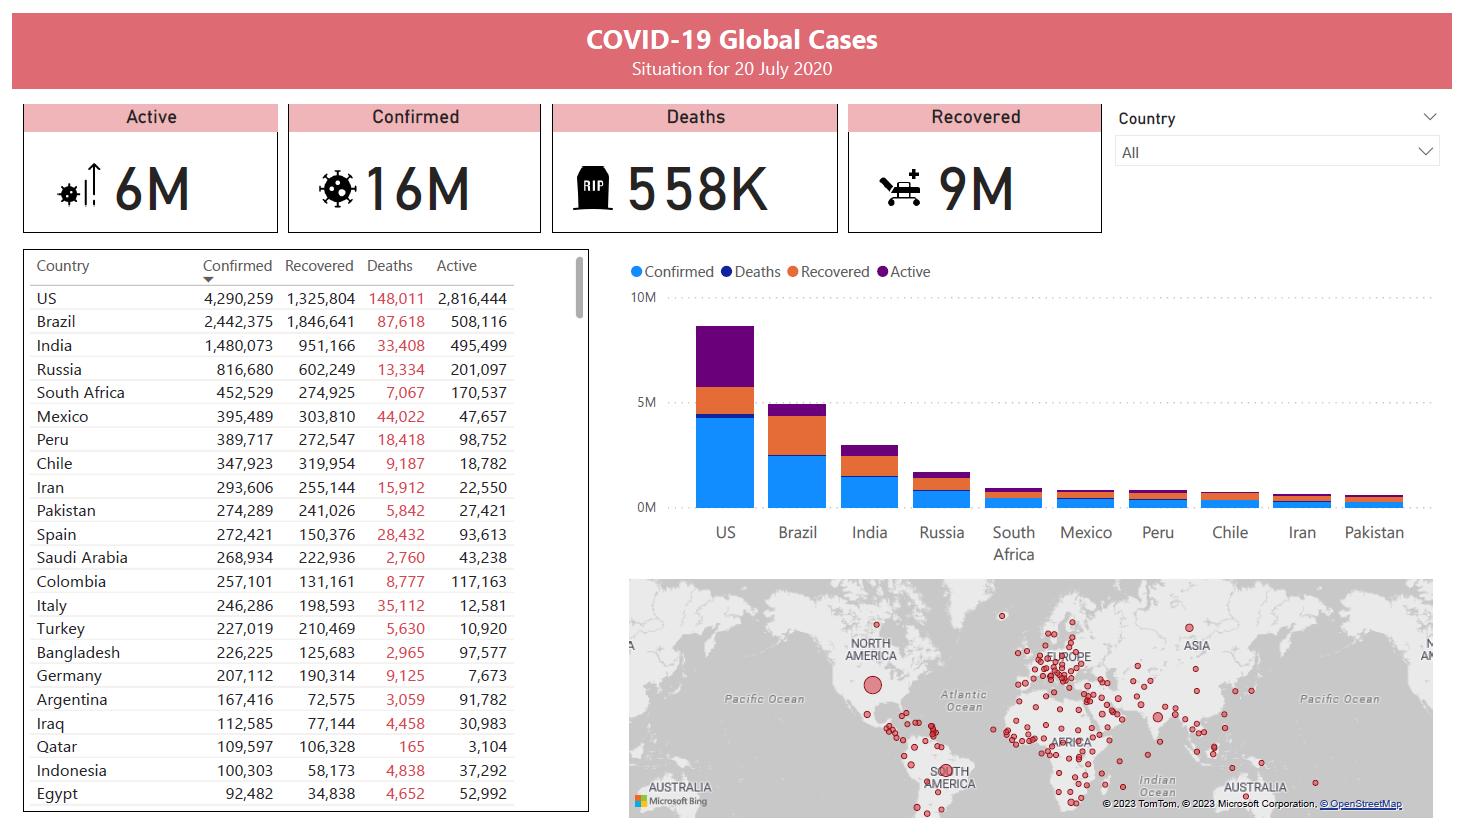

The page's visual inventory and layout, read from the dashboard file:
{"tool":"powerbi","page":{"name":"Page 1","canvas":[1280,720],"ordinal":0},"visuals":[{"type":"card","title":"Deaths","fields":{"Values":["Sum(Covid-19 Dataset (2020).Deaths)"]},"box":[480,80,253.8,115],"z":0},{"type":"card","title":"Recovered","fields":{"Values":["Sum(Covid-19 Dataset (2020).Recovered)"]},"box":[742.5,80,226.2,115],"z":1000},{"type":"card","title":"Confirmed","fields":{"Values":["Sum(Covid-19 Dataset (2020).Confirmed)"]},"box":[245,80,225,115],"z":2000},{"type":"textbox","box":[0,0,1280,66.2],"z":3000},{"type":"card","title":"Total Active","fields":{"Values":["Sum(Covid-19 Dataset (as of 20 July 2020).Active)"]},"box":[8.8,80,227.5,115],"z":4000},{"type":"slicer","fields":{"Values":["Covid-19 Dataset (as of 20 July 2020).Country/Region"]},"box":[971.2,80,308.8,70],"z":5000},{"type":"columnChart","title":"Active","fields":{"Category":["Covid-19 Dataset (as of 20 July 2020).Country/Region"],"Y":["Sum(Covid-19 Dataset (as of 20 July 2020).Confirmed)","Sum(Covid-19 Dataset (as of 20 July 2020).Deaths)","Sum(Covid-19 Dataset (as of 20 July 2020).Recovered)","Sum(Covid-19 Dataset (as of 20 July 2020).Active)"]},"box":[543.8,208.8,723.8,288.8],"z":6000},{"type":"tableEx","fields":{"Values":["Covid-19 Dataset (as of 20 July 2020).Country/Region","Sum(Covid-19 Dataset (as of 20 July 2020).Confirmed)","Sum(Covid-19 Dataset (as of 20 July 2020).Recovered)","Sum(Covid-19 Dataset (as of 20 July 2020).Deaths)","Sum(Covid-19 Dataset (as of 20 July 2020).Active)"]},"box":[8.8,208.8,503.8,501.2],"z":7000},{"type":"map","fields":{"Category":["Covid-19 Dataset (as of 20 July 2020).Country"],"Size":["Sum(Covid-19 Dataset (as of 20 July 2020).Confirmed)"]},"box":[543.8,497.5,723.8,222.5],"z":8000},{"type":"image","box":[35,125,47.5,52.5],"z":9000},{"type":"image","box":[267.5,128.8,43.8,52.5],"z":10000},{"type":"image","box":[490,131.2,53.8,47.5],"z":11000},{"type":"image","box":[766.2,125,46.2,58.8],"z":12000}]}

Visuals, with their boxes in screenshot pixels (x1, y1, x2, y2), scaled from the page's 1280x720 canvas onto the 1461x836 screenshot:
"Deaths" card: bbox=(548, 93, 838, 226)
"Recovered" card: bbox=(847, 93, 1106, 226)
"Confirmed" card: bbox=(280, 93, 536, 226)
textbox: bbox=(0, 0, 1460, 77)
"Total Active" card: bbox=(10, 93, 270, 226)
slicer - Covid-19 Dataset (as of 20 July 2020).Country/Region: bbox=(1109, 93, 1460, 174)
"Active" columnChart: bbox=(621, 242, 1447, 578)
tableEx - Covid-19 Dataset (as of 20 July 2020).Country/Region x Sum(Covid-19 Dataset (as of 20 July 2020).Confirmed): bbox=(10, 242, 585, 824)
map - Covid-19 Dataset (as of 20 July 2020).Country x Sum(Covid-19 Dataset (as of 20 July 2020).Confirmed): bbox=(621, 578, 1447, 835)
image: bbox=(40, 145, 94, 206)
image: bbox=(305, 150, 355, 211)
image: bbox=(559, 152, 621, 207)
image: bbox=(875, 145, 927, 213)
